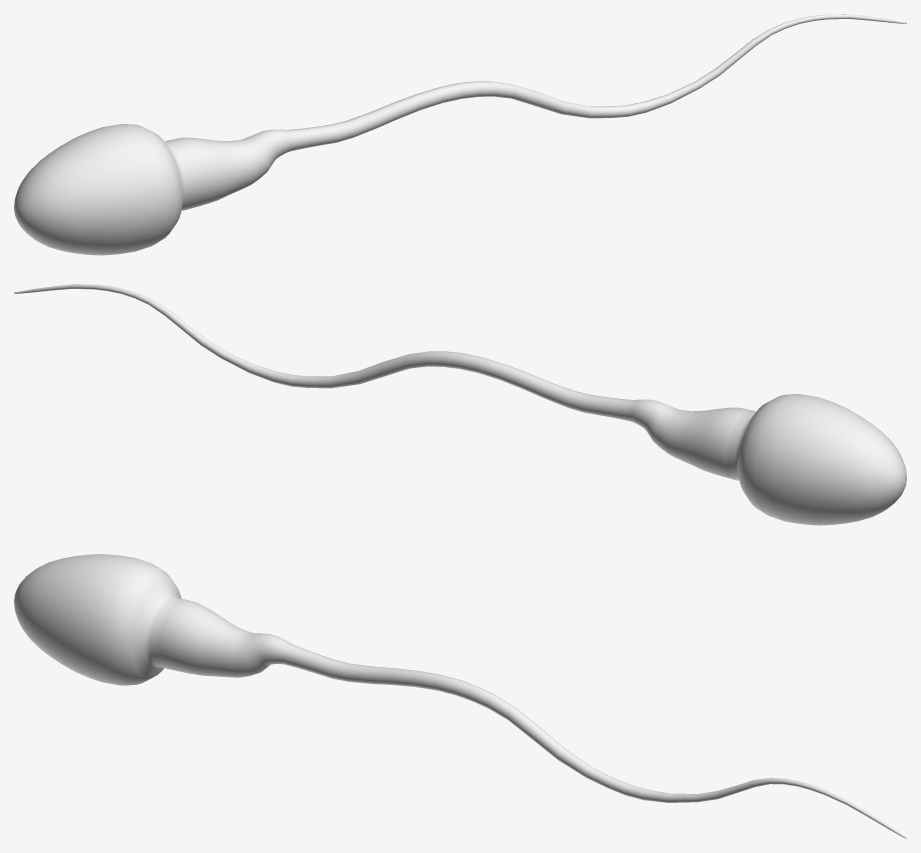
The model's file is cc0_-_sperm.glb.
3 views of the same model, one above another, from view 1: azimuth 30°, elevation 25°; view 2: azimuth 150°, elevation 25°; view 3: azimuth 330°, elevation 25° (orthographic).
Parts seen in each view (by area): view 1: Sperm; view 2: Sperm; view 3: Sperm.
Boxes of the visible parts, x1,y1,x2,y2 form: Sperm: (14, 14, 906, 255); Sperm: (14, 284, 906, 525); Sperm: (14, 554, 906, 838).
Bounding box in the file's own units: 0.1508 × 0.0189 × 0.0189.
1 material, 1 textured.
